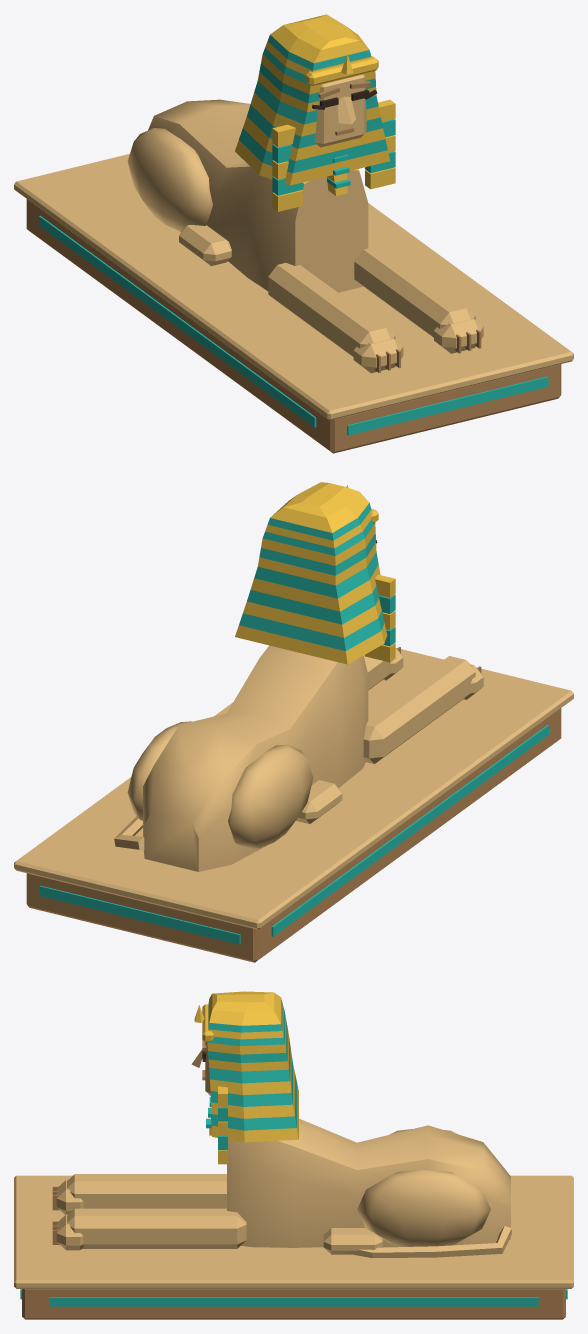
File: sphinx.glb
The picture shows the model from 3 angles, top to bottom: view 1: azimuth 30°, elevation 25°; view 2: azimuth 150°, elevation 25°; view 3: azimuth 270°, elevation 25°; orthographic projection. The views are drawn at different scales.
Parts seen in each view (by area): view 1: sphinx; view 2: sphinx; view 3: sphinx.
Boxes of the visible parts, <box> form: sphinx: <box>14,14,573,453</box>; sphinx: <box>14,482,573,962</box>; sphinx: <box>14,991,573,1319</box>.
Size of the model in its own units: 3.2 by 3.81 by 7.1.
